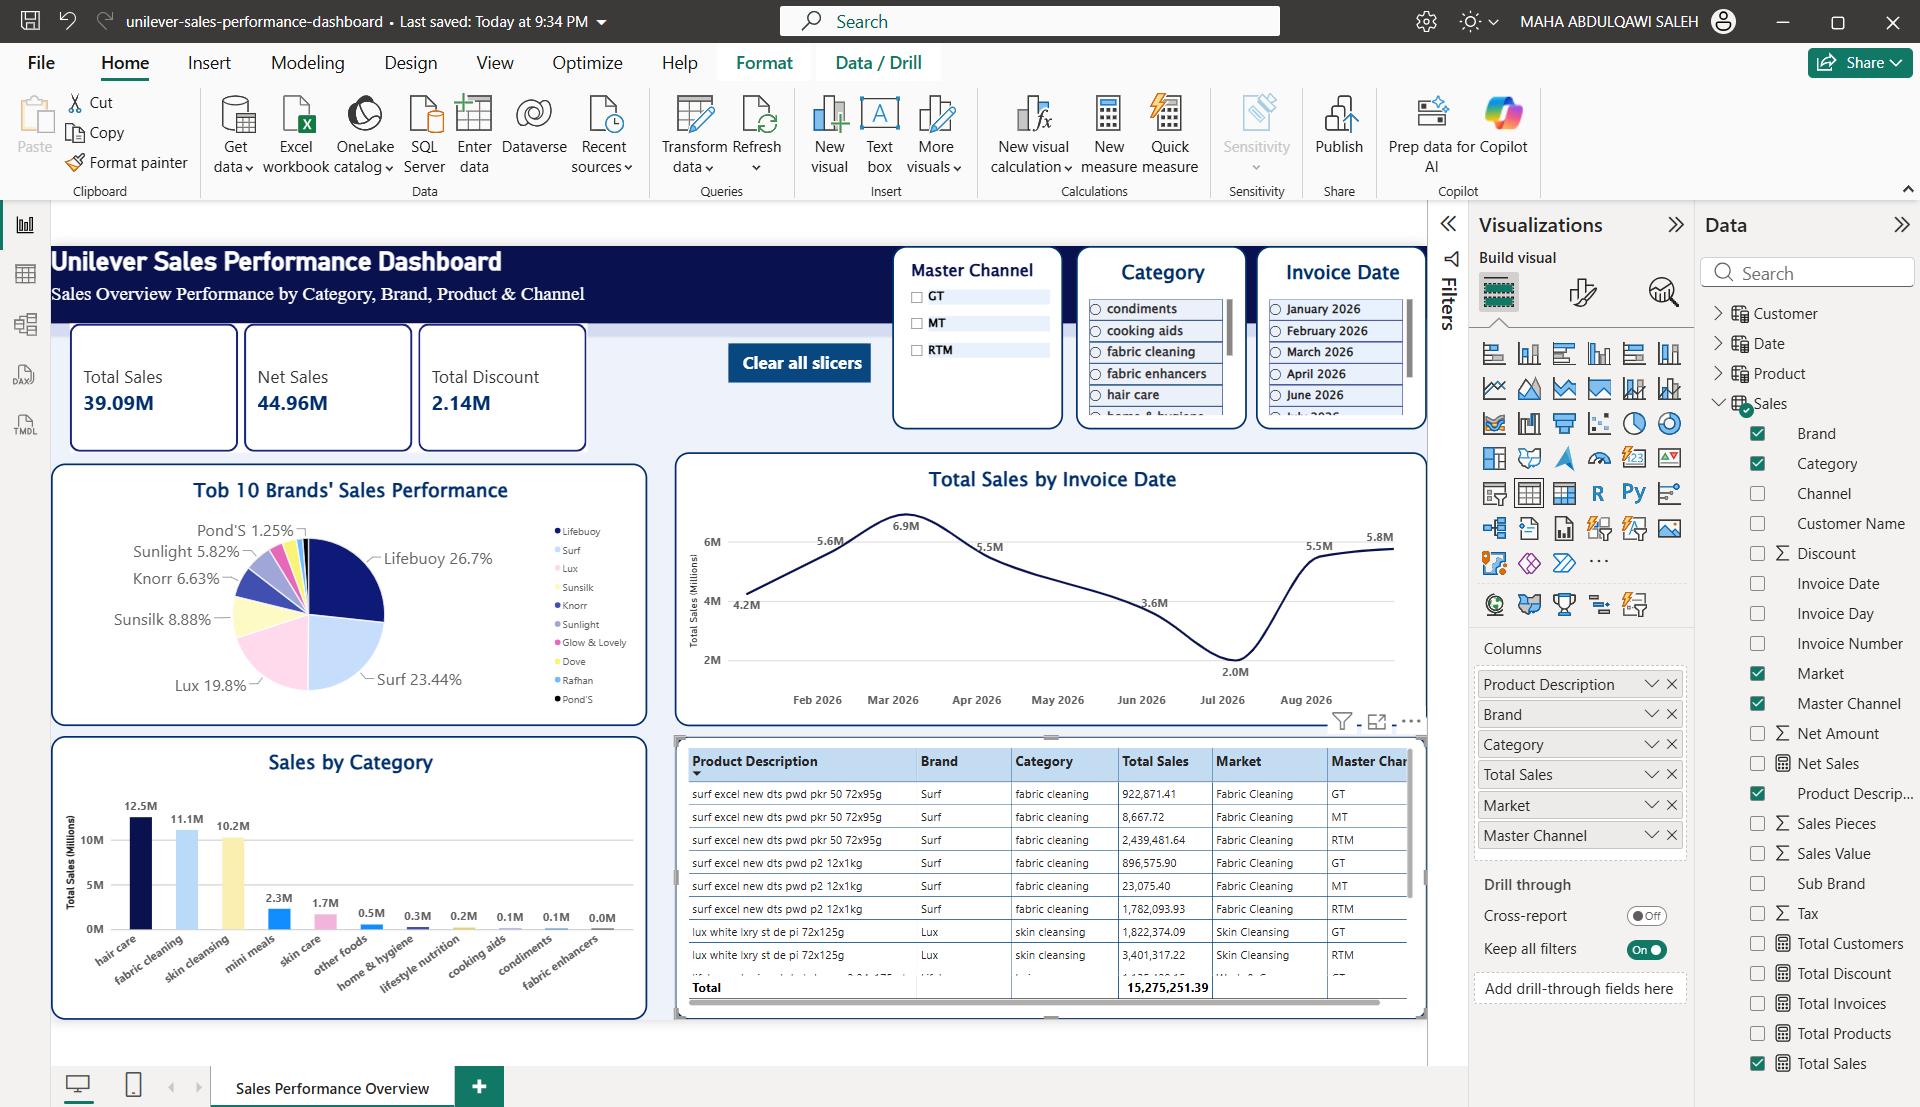

This screenshot's page, from the dashboard's own definition file:
{"tool":"powerbi","page":{"name":"Sales Performance Overview","canvas":[1920,1080],"ordinal":0},"visuals":[{"type":"textbox","title":"Unilever Sales Performance Dashboard","box":[0,0,1920,108],"z":0},{"type":"cardVisual","fields":{"Data":["Sales.Total Sales","Sales.Net Sales","Sales.Total Discount"]},"box":[26.2,108.1,722.1,179.7],"z":1000},{"type":"columnChart","title":"Sales by Category","fields":{"Category":["Sales.Category"],"Y":["Sales.Total Sales"]},"box":[0,684,832,396],"z":2000},{"type":"pieChart","title":"Tob 10 Brands'' Sales Performance","fields":{"Category":["Sales.Brand"],"Y":["Sales.Total Sales"]},"box":[0,304,832,366],"z":3000},{"type":"listSlicer","fields":{"Values":["Sales.Invoice Date"]},"box":[1682,0,238,256],"z":4000},{"type":"listSlicer","fields":{"Values":["Sales.Category"]},"box":[1430,0,238,256],"z":5000},{"type":"slicer","fields":{"Values":["Sales.Master Channel"]},"box":[1174,0,238,256],"z":6000},{"type":"lineChart","fields":{"Category":["Sales.Invoice Date"],"Y":["Sales.Total Sales"]},"box":[870,288,1050,382],"z":7000},{"type":"tableEx","fields":{"Values":["Sales.Product Description","Sales.Brand","Sales.Category","Sales.Total Sales","Sales.Market","Sales.Master Channel"]},"box":[870,684,1050,396],"z":8000},{"type":"actionButton","box":[946,136,198,54],"z":9001}]}

Visuals, with their boxes on the page's 1920x1080 design canvas (x1, y1, x2, y2). These are canvas units, not pixel positions in the 1920x1107 screenshot, which may show the page scaled, cropped or inside an application window:
"Unilever Sales Performance Dashboard" textbox: [left=0, top=0, right=1920, bottom=108]
cardVisual - Sales.Total Sales x Sales.Net Sales: [left=26, top=108, right=748, bottom=288]
"Sales by Category" columnChart: [left=0, top=684, right=832, bottom=1080]
"Tob 10 Brands'' Sales Performance" pieChart: [left=0, top=304, right=832, bottom=670]
listSlicer - Sales.Invoice Date: [left=1682, top=0, right=1920, bottom=256]
listSlicer - Sales.Category: [left=1430, top=0, right=1668, bottom=256]
slicer - Sales.Master Channel: [left=1174, top=0, right=1412, bottom=256]
lineChart - Sales.Invoice Date x Sales.Total Sales: [left=870, top=288, right=1920, bottom=670]
tableEx - Sales.Product Description x Sales.Brand: [left=870, top=684, right=1920, bottom=1080]
actionButton: [left=946, top=136, right=1144, bottom=190]
